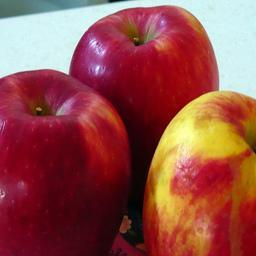apple: (1, 67, 133, 256), (68, 6, 220, 159), (141, 91, 256, 256)
